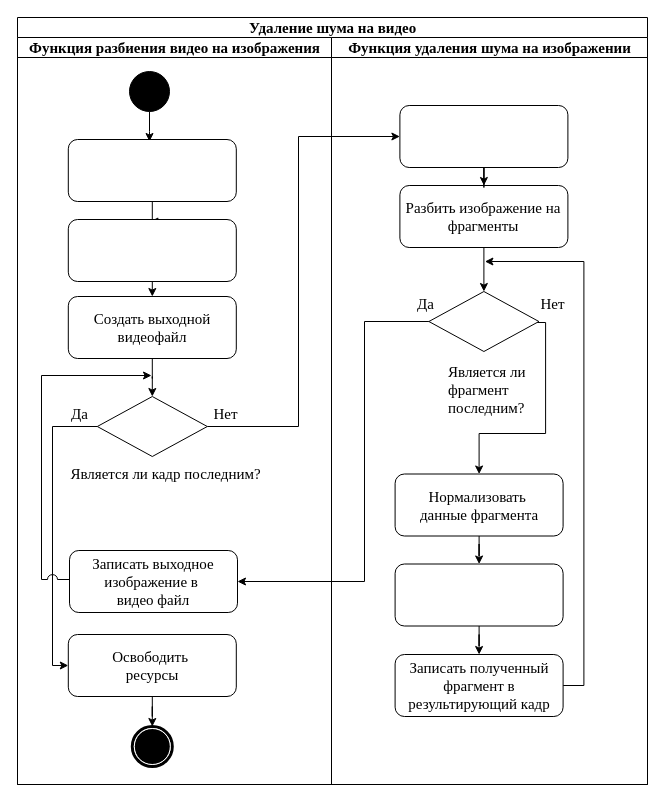
The diagram is 665 pixels wide and 802 high, and some of its shapes have lost their labels. Here are the shapes that lost their labels. From the top down, the centre of each, then its label:
At point (483, 136): "Создать результирующее изображение".
At point (151, 170): "Открыть видео".
At point (151, 250): "Определить параметры видео".
At point (478, 594): "Обработать фрагмент обученной нейронной сетью".
